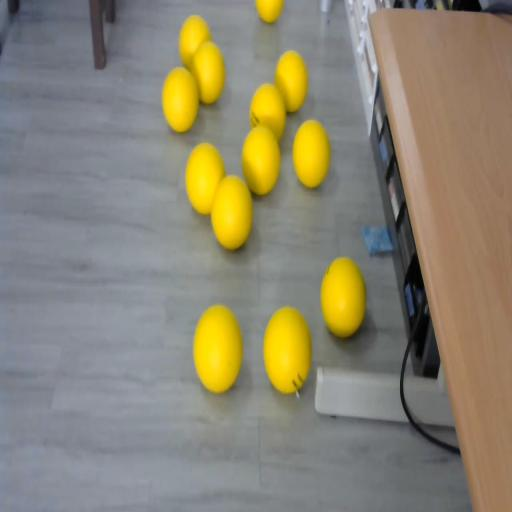FUEL: (262, 304, 313, 395), (193, 303, 243, 392), (320, 254, 366, 336), (210, 173, 254, 251), (241, 124, 282, 196), (292, 118, 330, 188), (161, 65, 200, 133), (192, 39, 226, 106), (275, 50, 309, 112), (255, 0, 284, 23)
